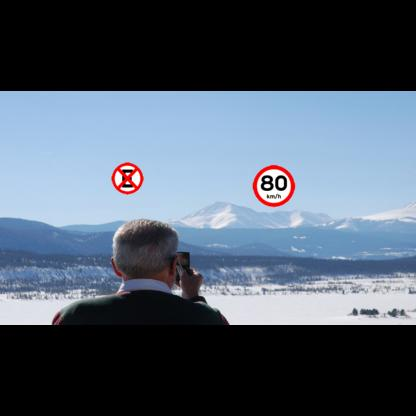R-19: (253, 165, 295, 207)
R-6c: (112, 162, 143, 194)
